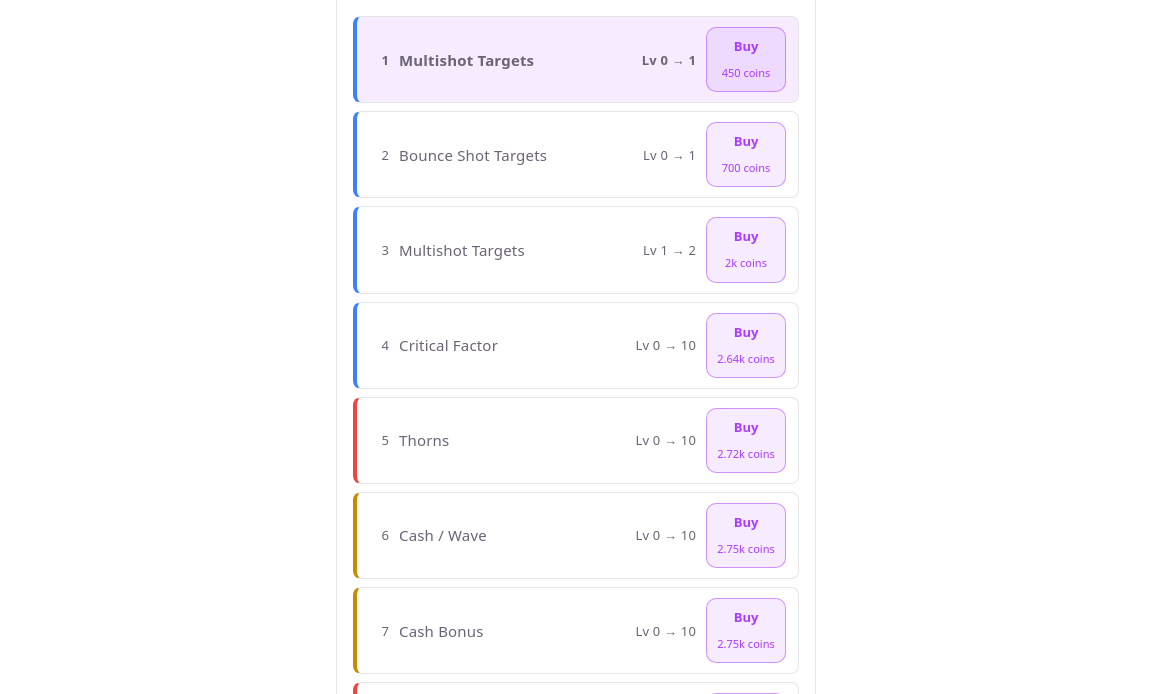
it: UpgradePath › buying a later occurrence of a repeated upgrade (OQ-19 + confirmation) › does nothing when the confirmation is cancelled
Click the button "Buy 2k coins": x=746, y=250 [706,217,786,283]
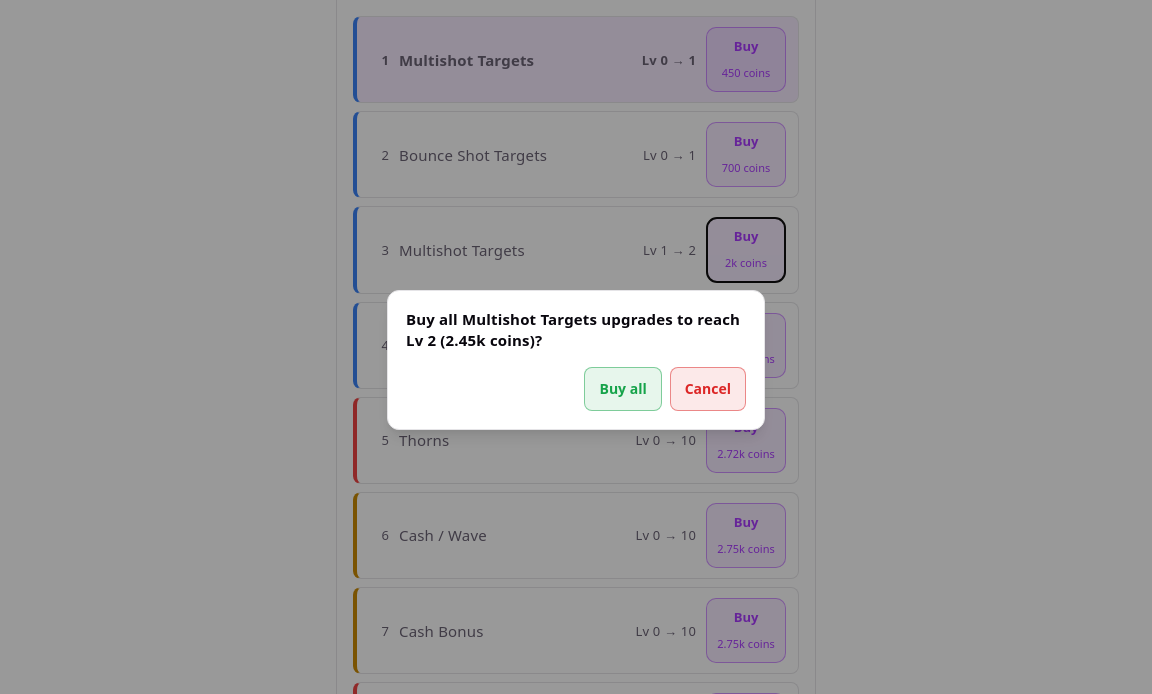
Click the button "Cancel": x=708, y=389 [670,367,746,411]
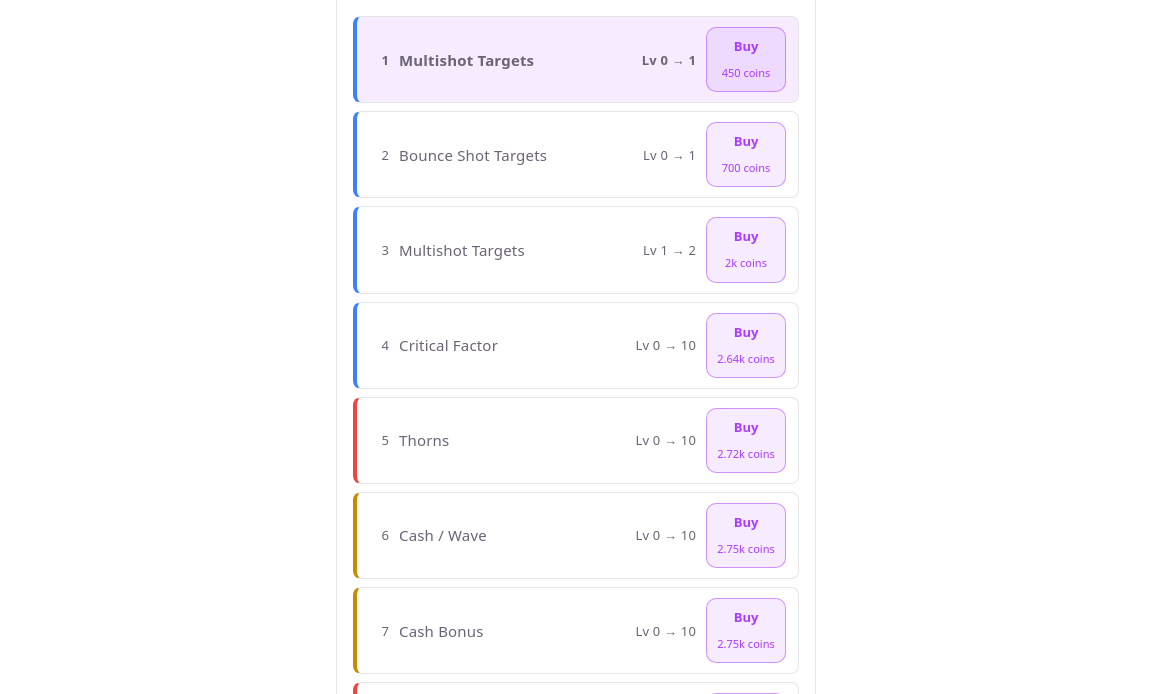
Result: the dialog is gone
